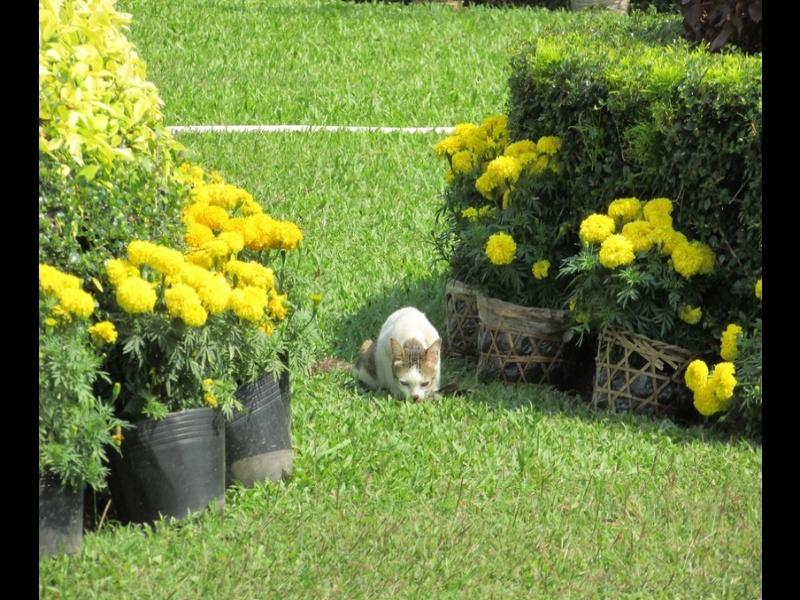cat: (355, 304, 446, 412)
